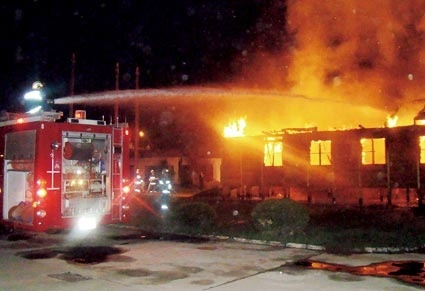fire: (221, 114, 247, 138)
